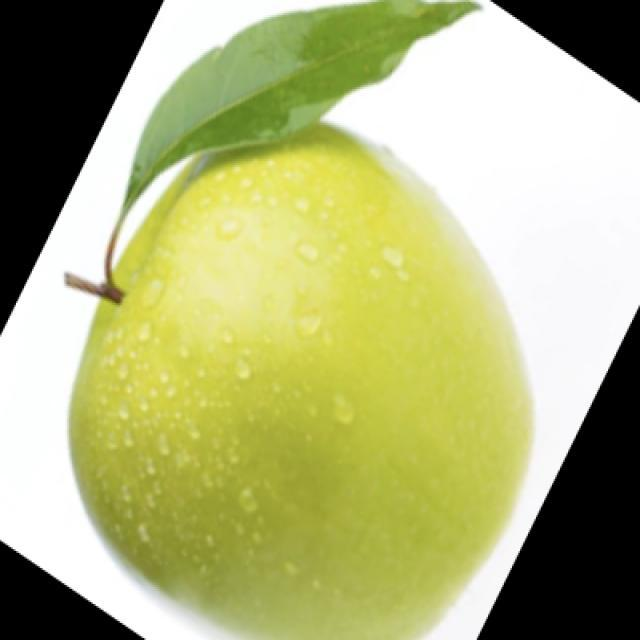Fresh Apple: (64, 102, 540, 640)
